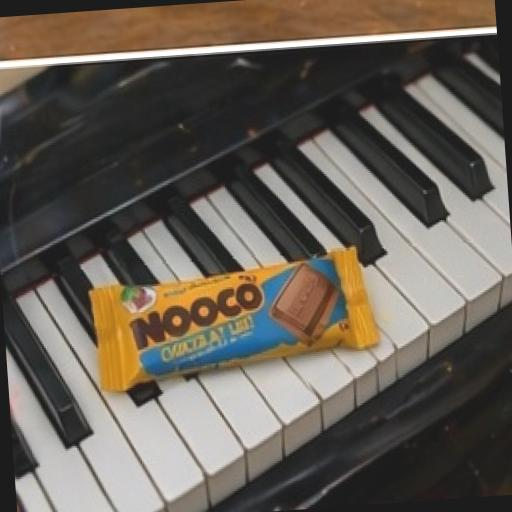nooco: (62, 230, 386, 402)
